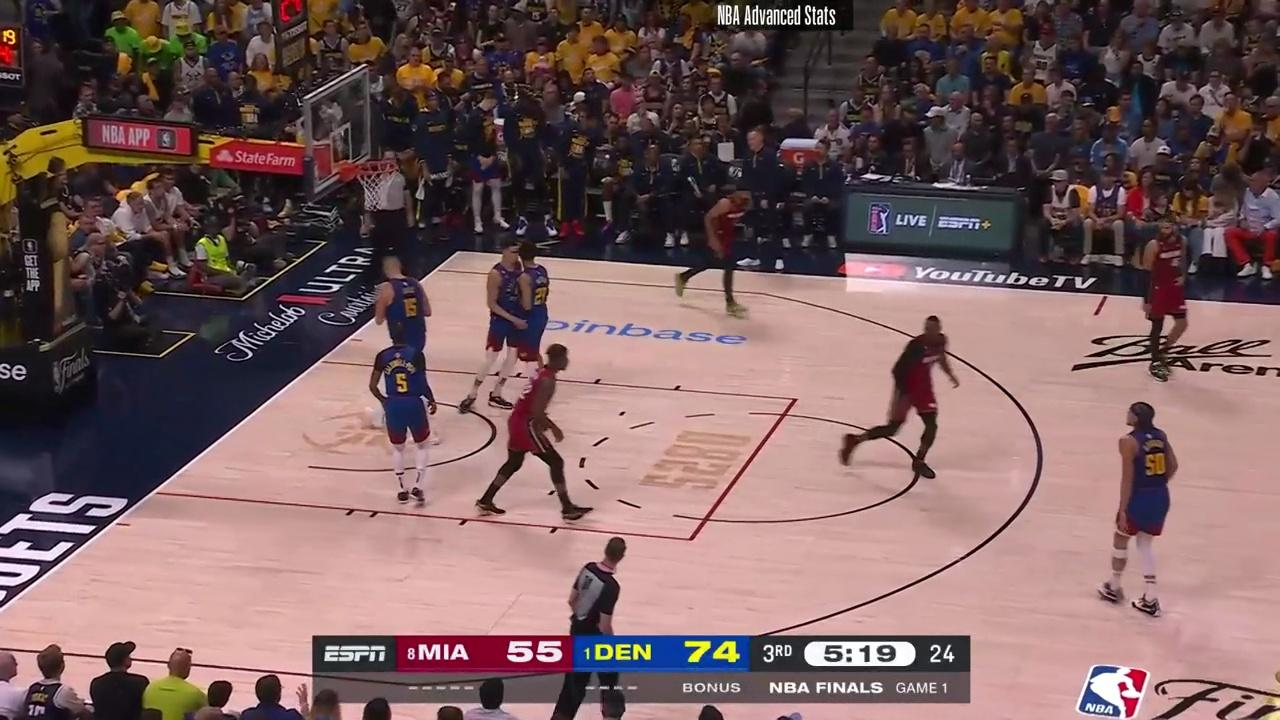Backboard: (296, 74, 381, 187)
Basket: (349, 157, 398, 209)
Person: (475, 335, 593, 527), (834, 311, 960, 485), (1097, 395, 1188, 622), (665, 173, 762, 319), (377, 331, 449, 499), (371, 249, 438, 408), (1135, 209, 1198, 377), (476, 242, 528, 388), (508, 246, 556, 384)
Referee: (555, 530, 622, 636), (361, 160, 418, 272)
Shot Clock: (271, 0, 318, 75), (0, 29, 33, 110)
